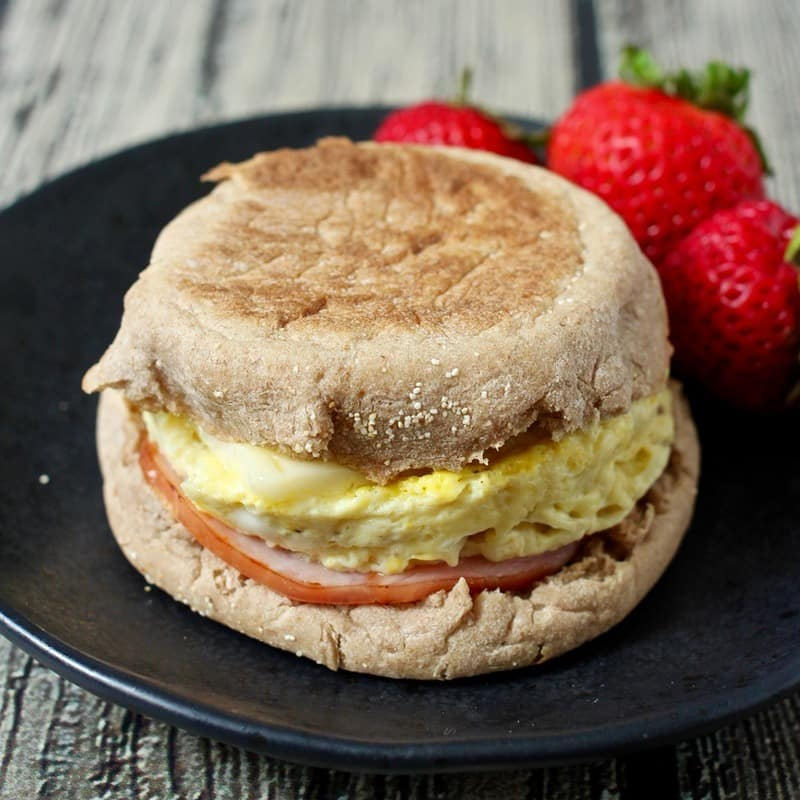sandwich: (59, 113, 760, 716)
